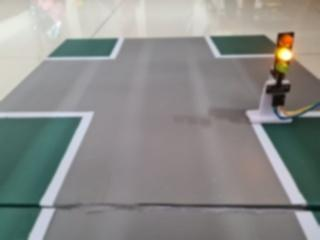yellow: (268, 25, 302, 82)
